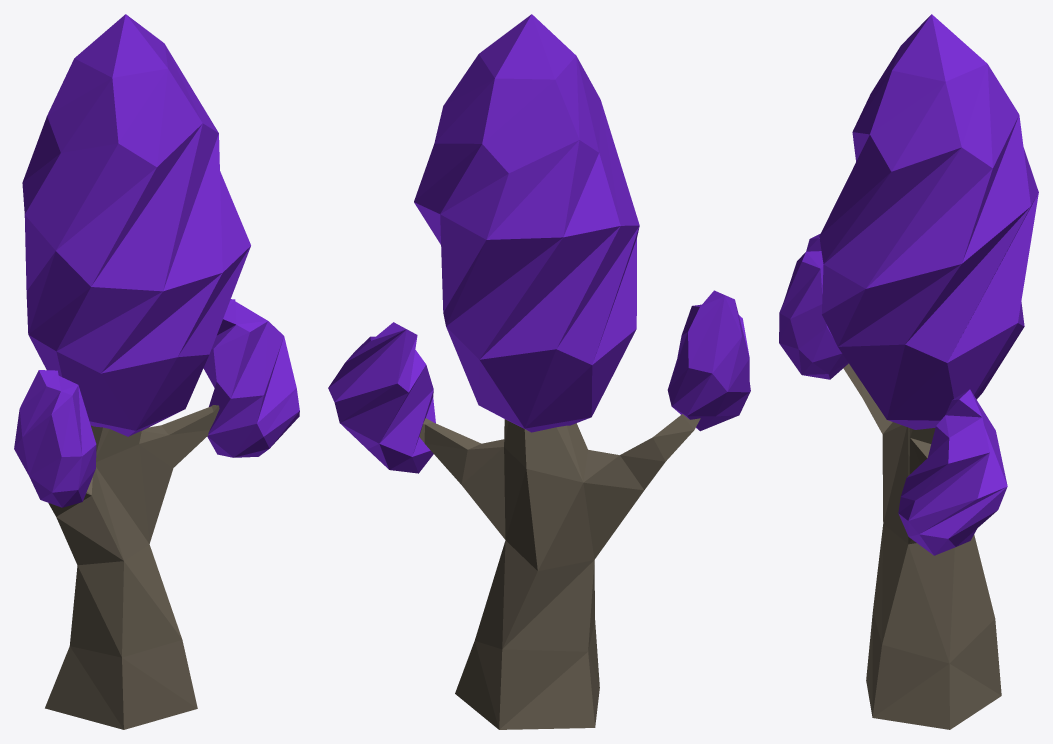
Rendered from PurpleTree03.fbx.
The picture shows the model from 3 angles, left to right: view 1: azimuth 30°, elevation 25°; view 2: azimuth 150°, elevation 25°; view 3: azimuth 270°, elevation 25°; orthographic projection.
Parts seen in each view (by area): view 1: TreeBush02, Tree02, TreeBush03.001, TreeBush03; view 2: TreeBush02, Tree02, TreeBush03.001, TreeBush03; view 3: TreeBush02, Tree02, TreeBush03.001, TreeBush03.
Part boxes in pixels (x1,y1,x2,y2): TreeBush02: (22, 14, 250, 436); Tree02: (45, 405, 219, 729); TreeBush03.001: (203, 299, 299, 457); TreeBush03: (14, 370, 96, 507); TreeBush02: (414, 14, 639, 432); Tree02: (419, 414, 700, 729); TreeBush03.001: (328, 322, 435, 473); TreeBush03: (667, 290, 750, 431); TreeBush02: (819, 14, 1038, 429); Tree02: (843, 363, 1001, 729); TreeBush03.001: (898, 389, 1007, 555); TreeBush03: (779, 233, 848, 379).
Size of the model in its own units: 622 by 1199 by 413.
